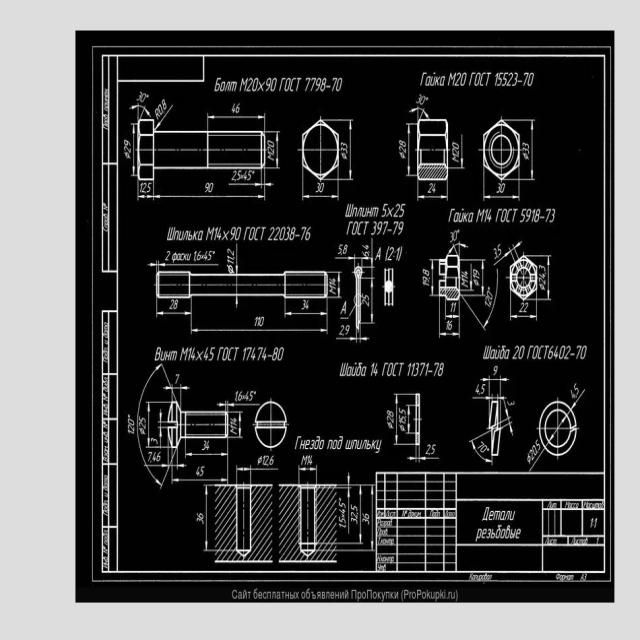marking_line: (193, 327, 328, 333), (155, 194, 265, 200), (209, 113, 264, 121), (504, 240, 522, 262), (369, 487, 375, 551), (147, 262, 219, 267), (235, 244, 240, 310), (174, 477, 228, 483), (155, 99, 169, 122), (187, 450, 227, 458), (284, 310, 325, 317), (204, 486, 208, 551), (145, 404, 151, 447), (217, 401, 259, 407), (410, 107, 429, 120), (406, 127, 411, 175), (530, 122, 534, 180), (358, 486, 362, 544), (143, 464, 188, 469), (369, 279, 374, 321), (546, 258, 551, 299), (304, 194, 338, 200), (157, 310, 191, 316), (347, 489, 351, 534), (348, 335, 368, 344), (164, 385, 189, 392), (349, 121, 352, 179), (485, 195, 519, 200), (460, 134, 465, 168), (419, 456, 440, 464), (228, 183, 260, 188), (132, 124, 135, 176), (417, 195, 447, 200), (511, 314, 536, 320), (237, 412, 243, 437), (484, 308, 491, 328), (139, 194, 153, 200), (237, 467, 249, 473), (264, 182, 275, 188), (346, 473, 352, 483), (408, 456, 415, 462)
numeric: (268, 225, 296, 241), (242, 347, 267, 364), (407, 362, 429, 380), (520, 207, 540, 223), (432, 361, 446, 381), (421, 266, 432, 290), (180, 347, 196, 363), (301, 452, 316, 469), (266, 140, 276, 164), (477, 209, 493, 224), (529, 440, 541, 460), (203, 347, 216, 365), (232, 171, 253, 182), (272, 347, 285, 364), (301, 224, 313, 242), (228, 226, 241, 242), (126, 415, 135, 438), (397, 406, 407, 426), (393, 218, 403, 238), (394, 202, 405, 220), (147, 449, 162, 462), (244, 388, 257, 403), (567, 384, 579, 400), (372, 223, 388, 235), (475, 380, 486, 397), (545, 207, 556, 224), (262, 455, 277, 467), (398, 137, 408, 154), (538, 263, 546, 284), (492, 244, 502, 260), (338, 325, 350, 338), (169, 299, 182, 311), (374, 245, 383, 262), (371, 360, 380, 377), (387, 245, 395, 264), (122, 138, 132, 153), (140, 182, 152, 194), (192, 250, 202, 264), (196, 508, 204, 525), (227, 247, 235, 264), (315, 182, 327, 193), (138, 91, 149, 103), (203, 182, 215, 193), (425, 443, 436, 455), (416, 94, 427, 106), (518, 302, 530, 313), (255, 315, 266, 327), (361, 294, 371, 307), (201, 438, 210, 452), (496, 183, 507, 194), (202, 250, 213, 261), (462, 268, 468, 288), (337, 244, 349, 254), (195, 465, 205, 477), (233, 390, 243, 402), (302, 297, 311, 310), (361, 244, 370, 257), (450, 230, 458, 244), (340, 301, 348, 315), (231, 103, 241, 114), (385, 412, 395, 423), (485, 289, 491, 307), (428, 183, 437, 195), (138, 416, 147, 428), (450, 301, 458, 314), (453, 143, 461, 156), (491, 366, 500, 377), (446, 320, 454, 332), (522, 141, 530, 153), (394, 245, 400, 261), (472, 269, 481, 279), (382, 202, 387, 219), (164, 250, 171, 261), (341, 143, 347, 153)
special_symbol: (129, 104, 152, 120), (122, 151, 132, 162), (526, 452, 532, 468), (399, 422, 406, 434), (226, 264, 234, 274), (398, 151, 406, 160), (522, 152, 530, 161), (538, 283, 546, 292), (472, 279, 481, 287), (256, 456, 263, 466), (342, 152, 348, 162), (139, 428, 146, 436), (387, 421, 394, 429)
